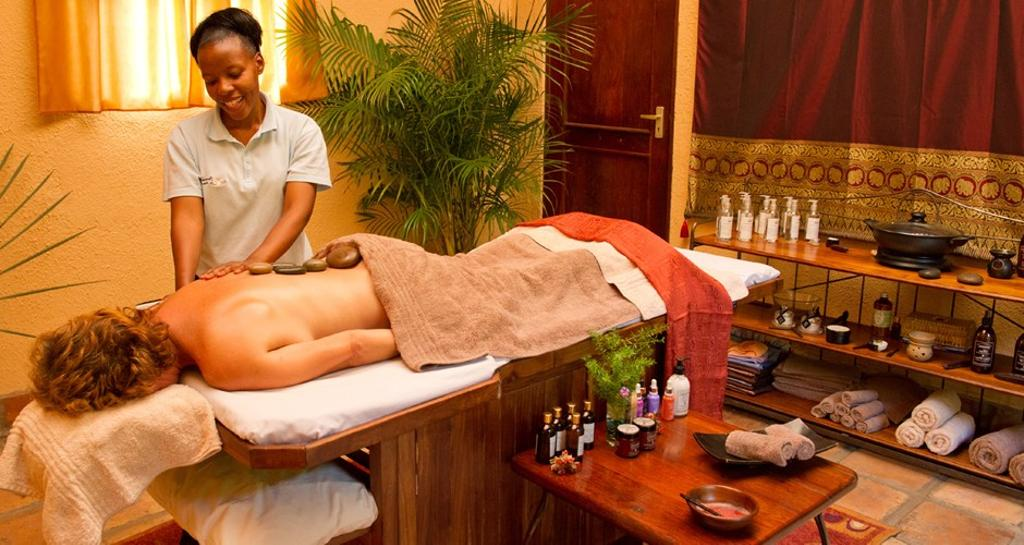face: (198, 42, 256, 118)
